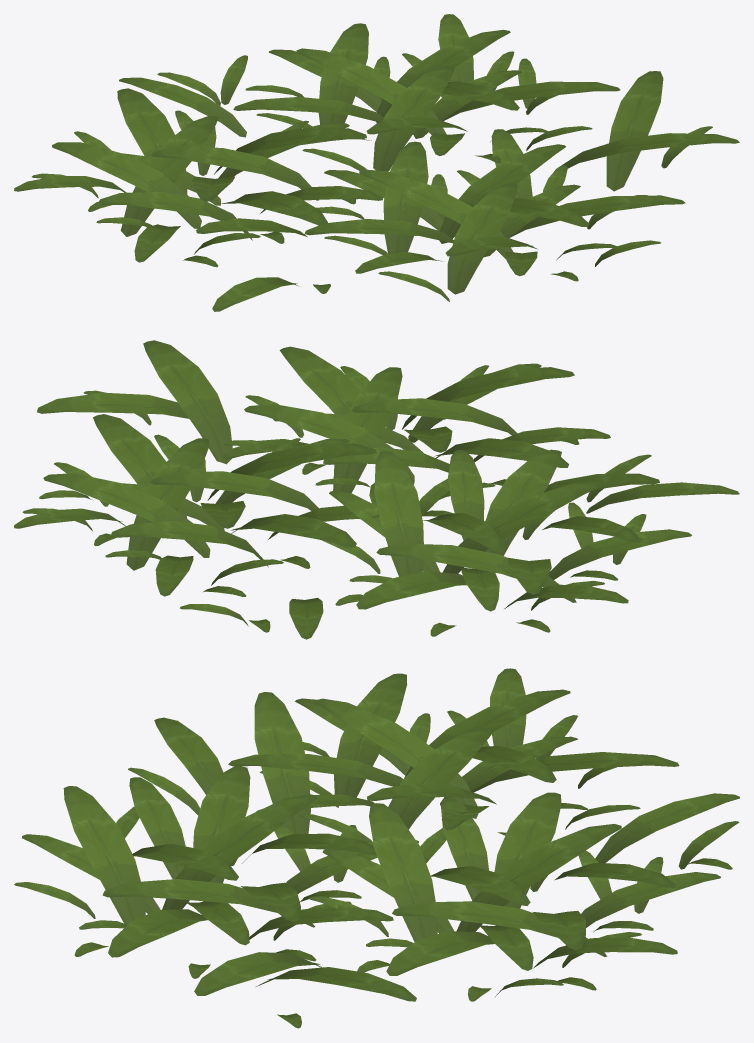
File: grass_001.glb
3 views of the same model, one above another, from view 1: azimuth 30°, elevation 25°; view 2: azimuth 150°, elevation 25°; view 3: azimuth 270°, elevation 25° (orthographic). The views are drawn at different scales.
Parts seen in each view (by area): view 1: Plane.003; view 2: Plane.003; view 3: Plane.003.
Boxes of the visible parts, left/top/right/bottom form: Plane.003: left=14, top=14, right=739, bottom=311; Plane.003: left=14, top=340, right=739, bottom=639; Plane.003: left=14, top=668, right=739, bottom=1028.
Size of the model in its own units: 2.15 by 0.266 by 1.94.
1 material, 1 textured.
